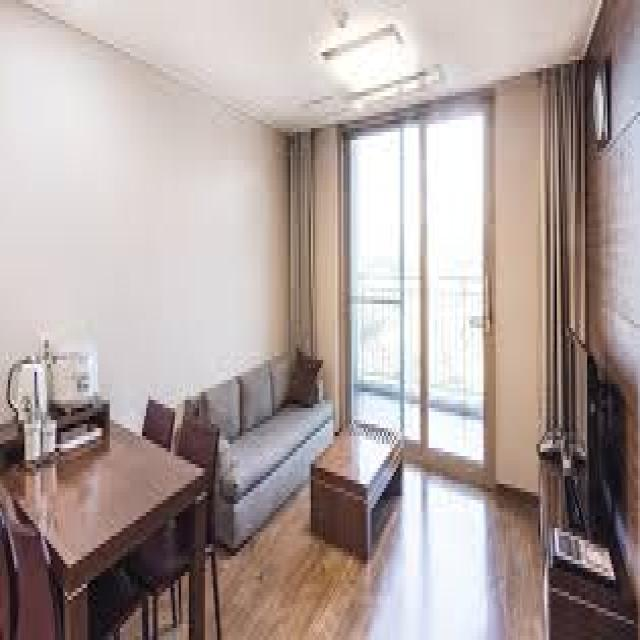Sofa: (193, 360, 329, 524)
Table: (308, 418, 406, 566)
tv: (560, 323, 604, 544)
window: (343, 132, 491, 459)
